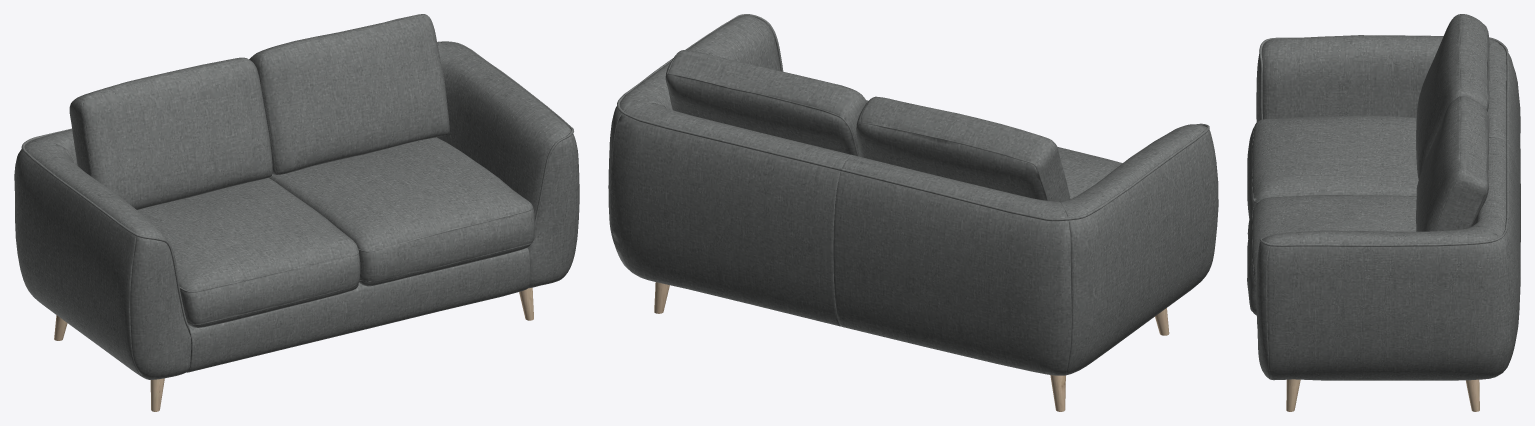
The model's file is B07VLFWRFV.glb.
The picture shows the model from 3 angles, left to right: view 1: azimuth 30°, elevation 25°; view 2: azimuth 150°, elevation 25°; view 3: azimuth 270°, elevation 25°; orthographic projection. The views are drawn at different scales.
Parts seen in each view (by area): view 1: consolidatedNode; view 2: consolidatedNode; view 3: consolidatedNode.
Boxes of the visible parts, x1=… form: consolidatedNode: x1=14, y1=14, x2=579, y2=411; consolidatedNode: x1=608, y1=14, x2=1218, y2=411; consolidatedNode: x1=1247, y1=14, x2=1520, y2=411.
Size of the model in its own units: 1.7 by 0.8701 by 0.9201.
Materials: 1 (1 with a texture image).
